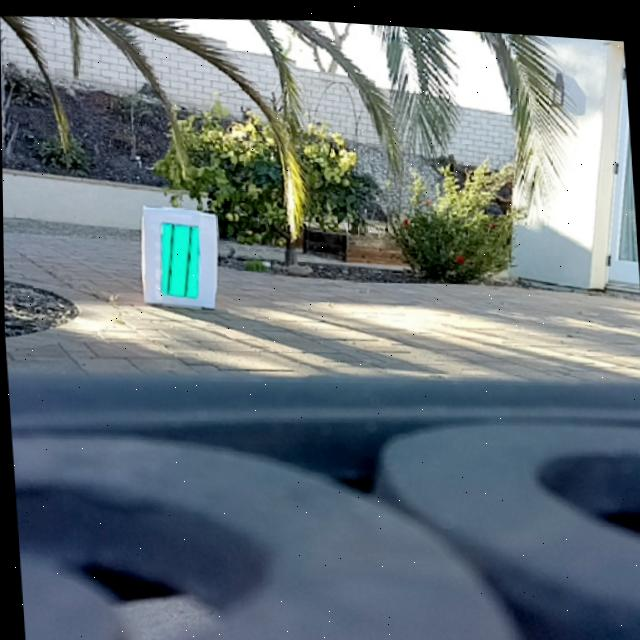led: (155, 220, 200, 297)
